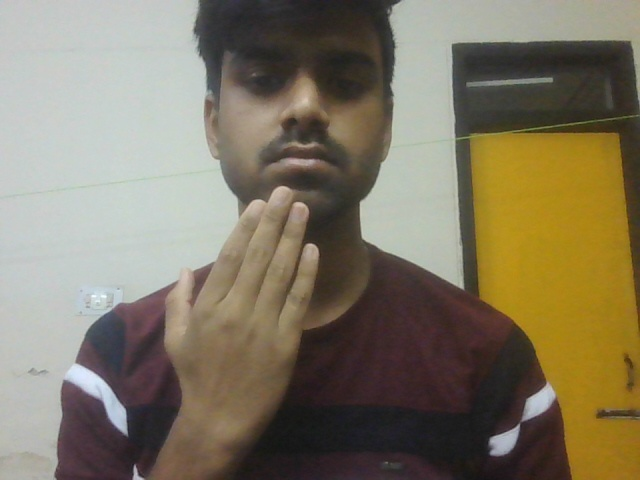thanks: (151, 180, 350, 471)
